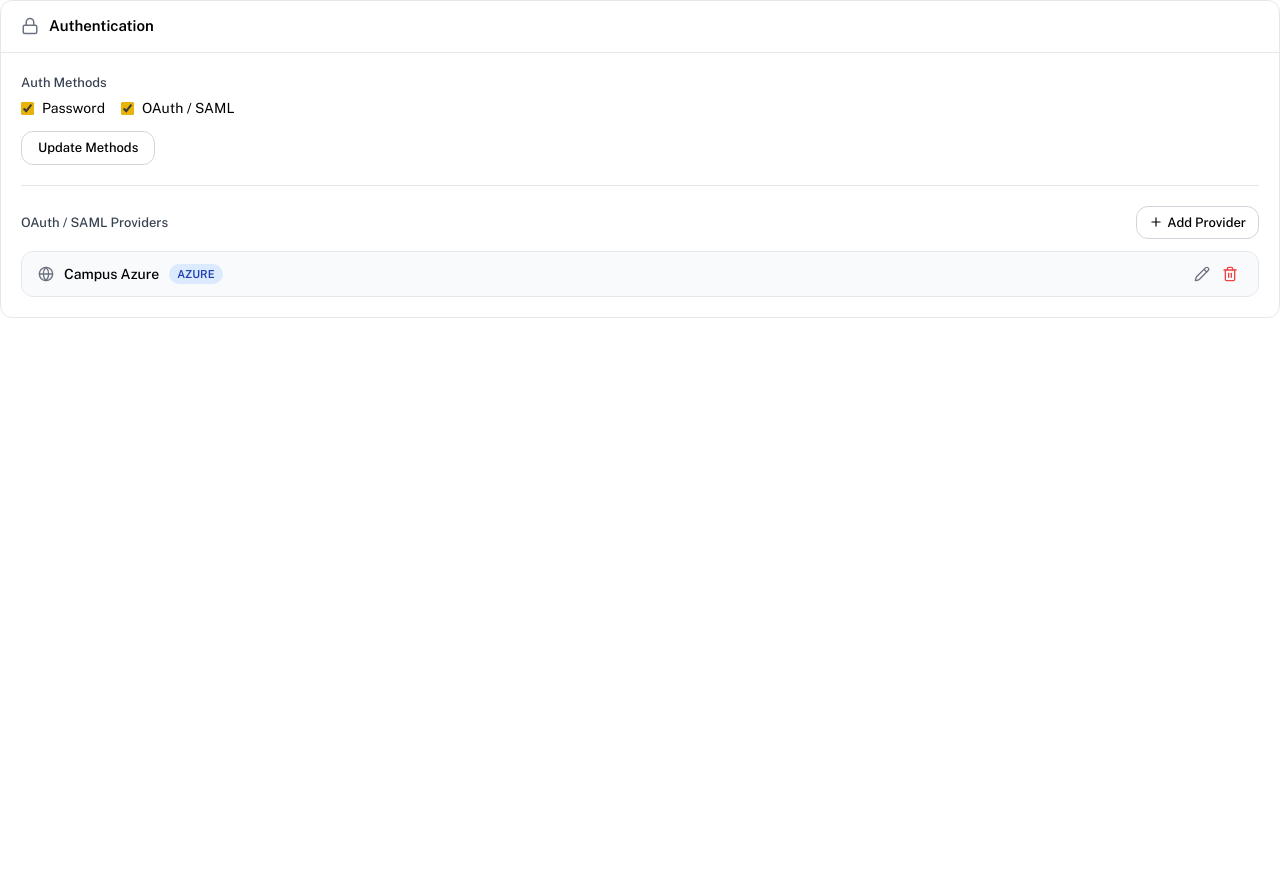
Scenario: AuthPanel — add and delete › requires the IdP fields for a SAML provider
Click the button "Add Provider". click: (1198,222)
box: 1136,206 -> 1259,239
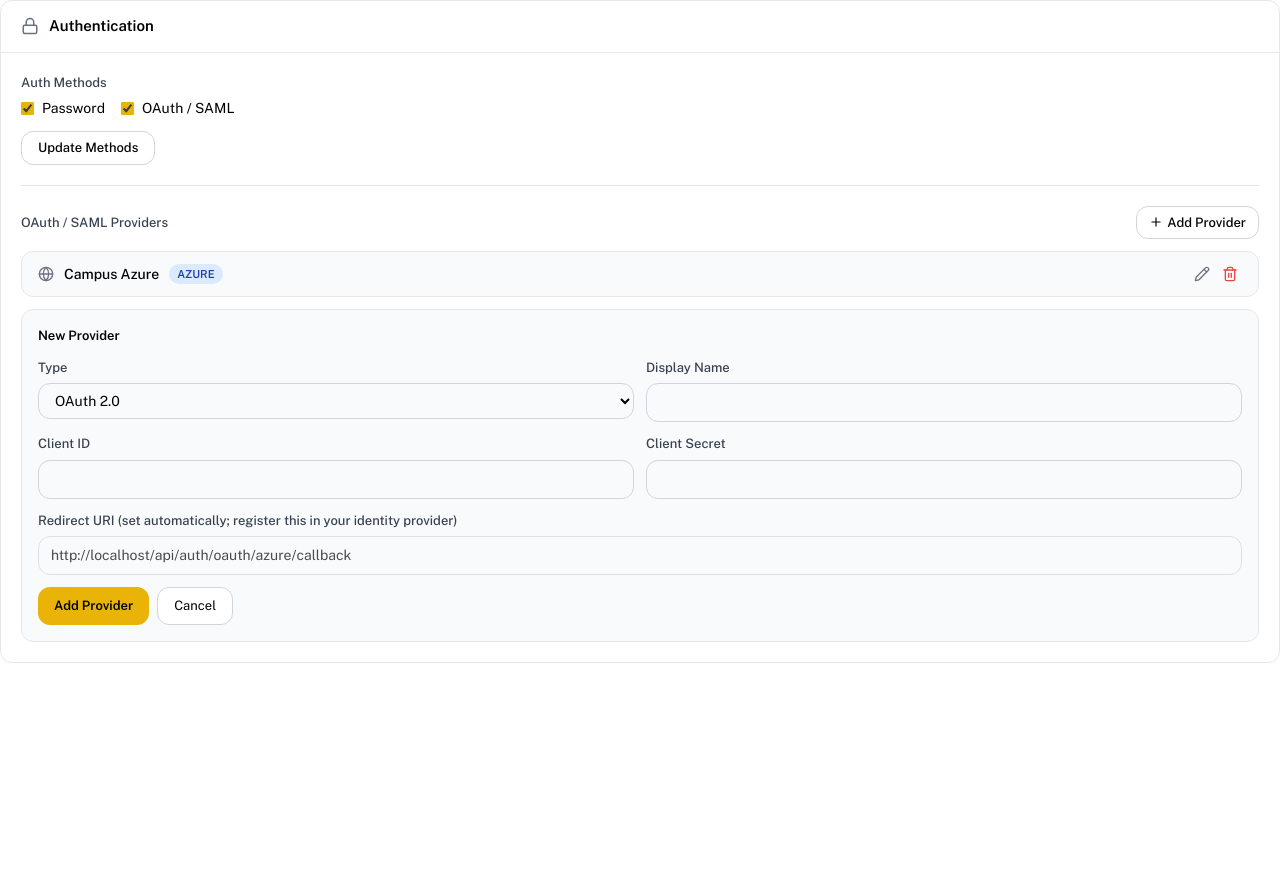
Type "Shibboleth" into the field below "Display Name". click: (944,402)
box: 646,383 -> 1242,422
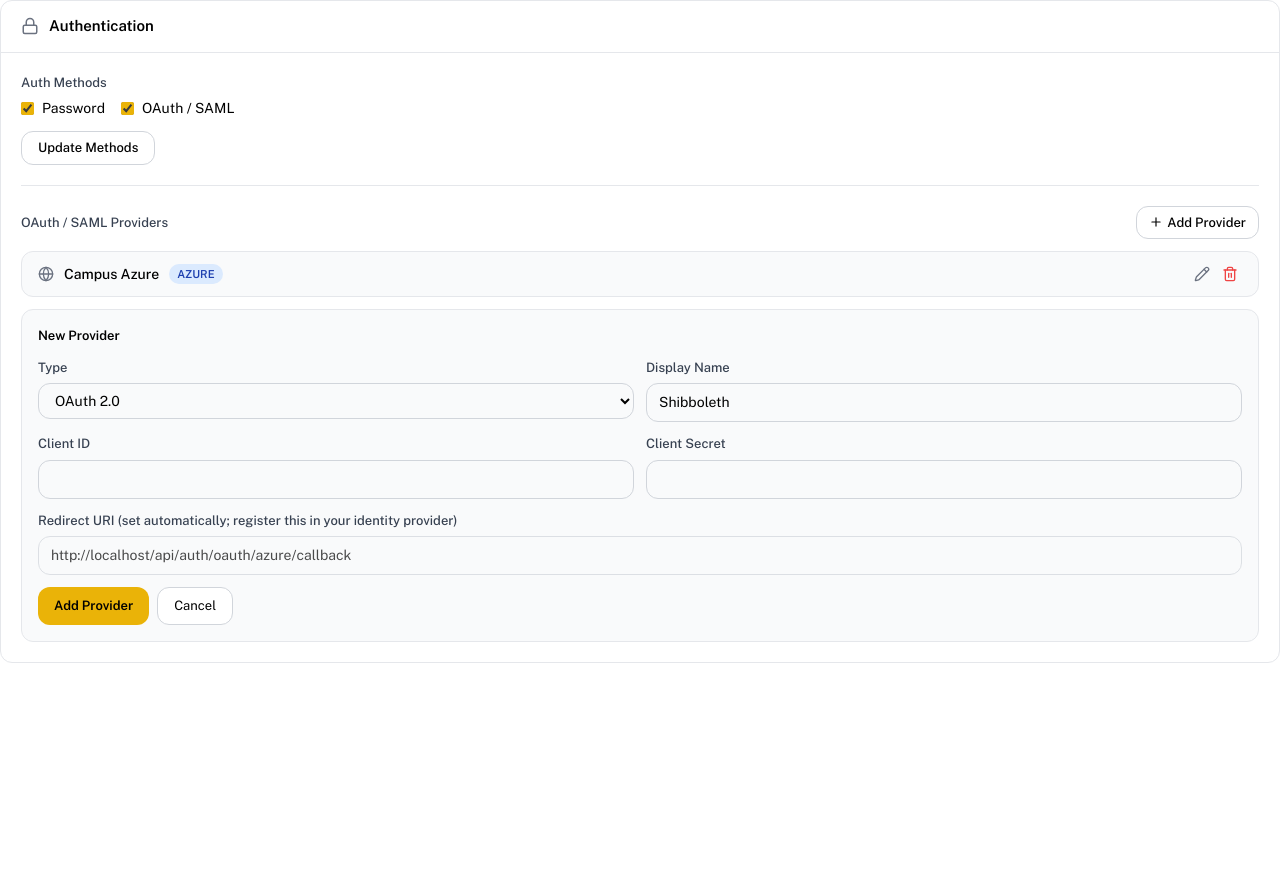
Select "SAML" in the dropdown. click: (336,401)
box: 38,383 -> 634,419
(page scrolled)
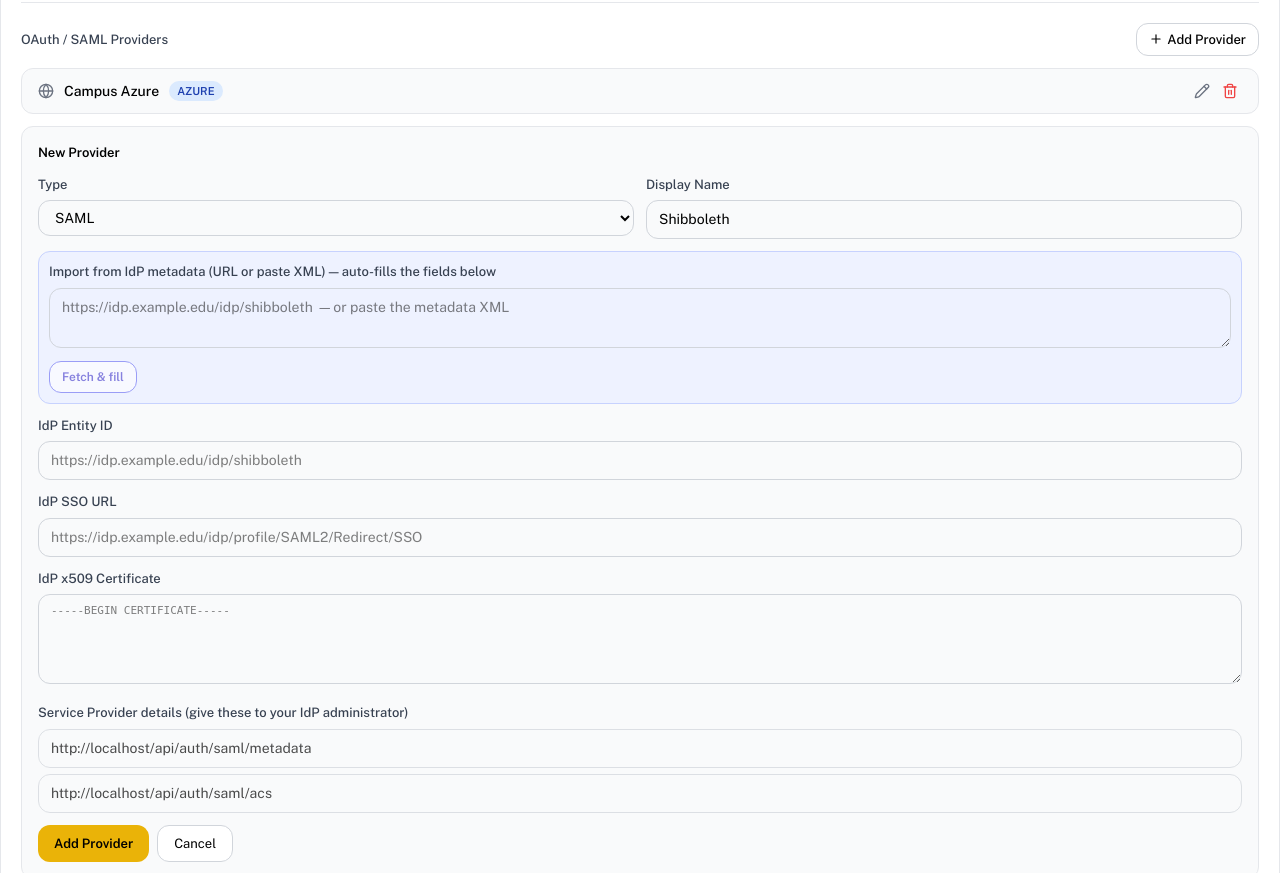
Click the button "Add Provider" below "IdP x509 Certificate". click: (94,843)
box: 38,824 -> 149,862
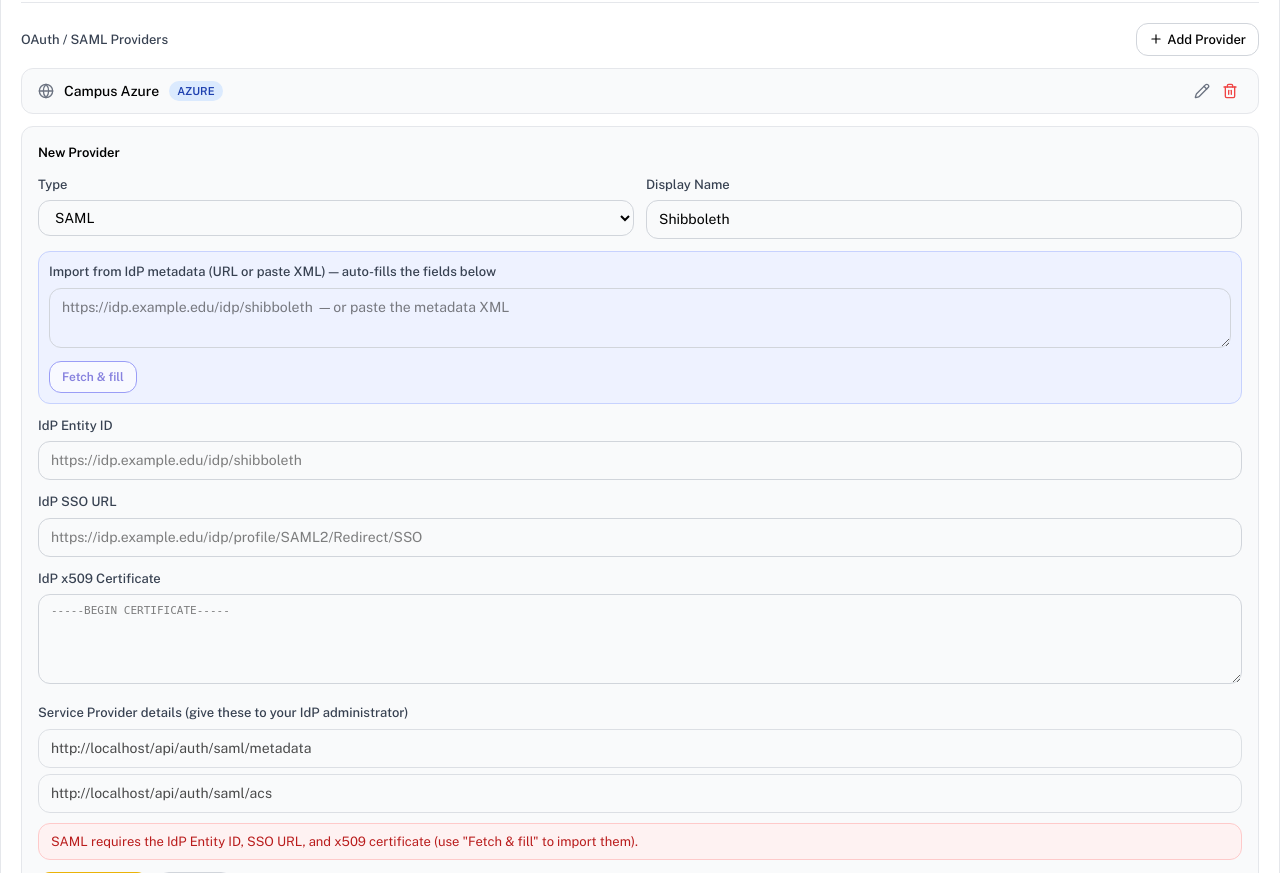
Expected: the message shows "SAML requires the IdP Entity ID", 51,834 -> 638,848
